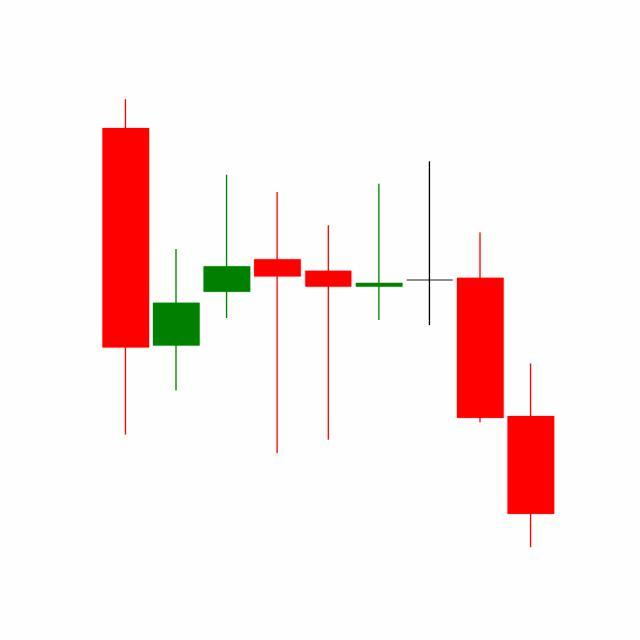Hikkake Pattern: (302, 157, 555, 548)
